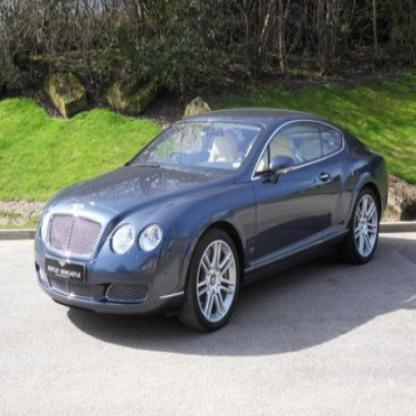Vehicle: (35, 109, 390, 334)
